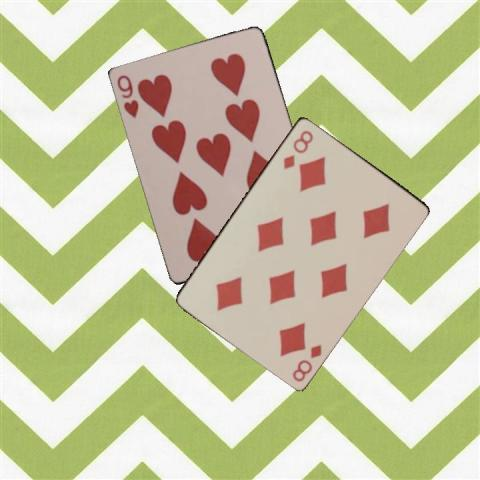8d: (280, 127, 315, 170), (289, 341, 323, 382)
9h: (114, 72, 141, 120)
